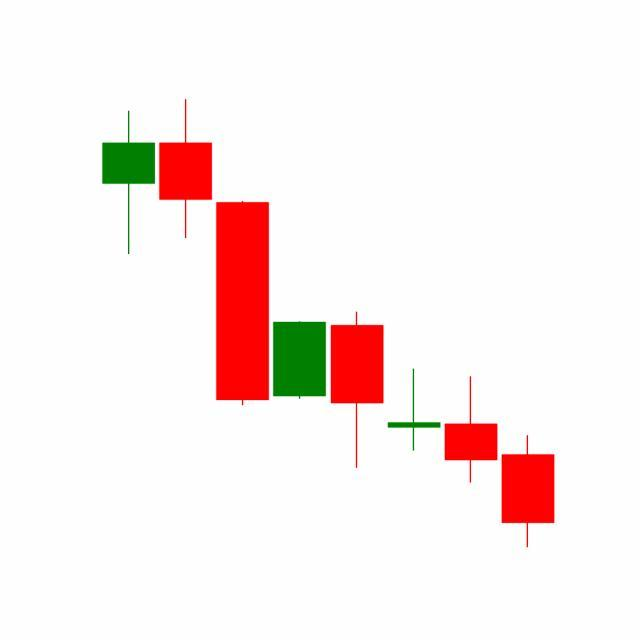Hikkake Pattern: (214, 198, 501, 487)
